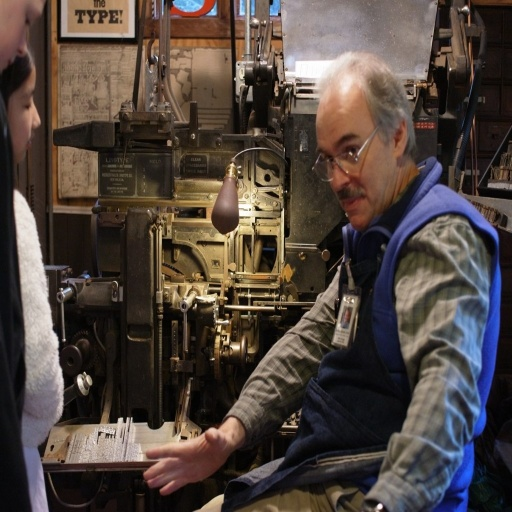hand: (128, 426, 223, 494)
